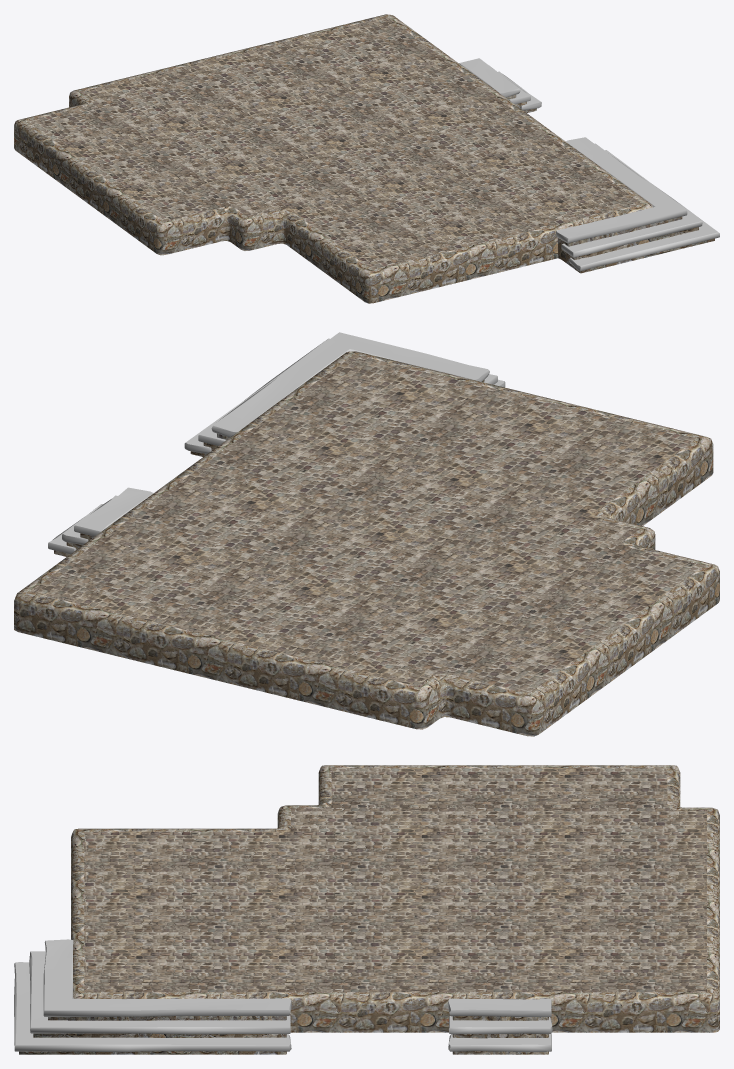
The model's file is mw_type_2_cottage_05_bottom.FBX.
3 views of the same model, one above another, from view 1: azimuth 30°, elevation 25°; view 2: azimuth 150°, elevation 25°; view 3: azimuth 270°, elevation 25° (orthographic). The views are drawn at different scales.
Parts seen in each view (by area): view 1: mw_type_2_cottage_building_05_bottom; view 2: mw_type_2_cottage_building_05_bottom; view 3: mw_type_2_cottage_building_05_bottom.
Boxes of the visible parts, bbox=[...] form: mw_type_2_cottage_building_05_bottom: bbox=[14, 14, 719, 303]; mw_type_2_cottage_building_05_bottom: bbox=[14, 332, 719, 736]; mw_type_2_cottage_building_05_bottom: bbox=[14, 765, 719, 1054].
Size of the model in its own units: 1505 by 94.34 by 1730.
